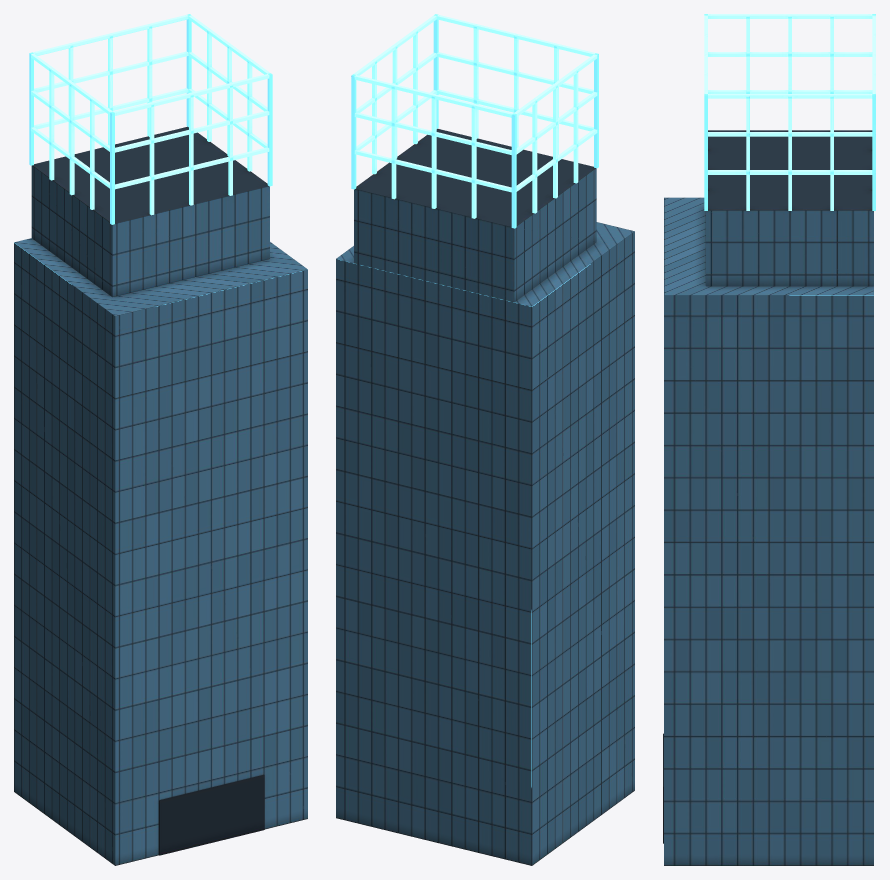
The model's file is torre_led.glb.
The picture shows the model from 3 angles, left to right: view 1: azimuth 30°, elevation 25°; view 2: azimuth 150°, elevation 25°; view 3: azimuth 270°, elevation 25°; orthographic projection. The views are drawn at different scales.
Visible parts, largest first — view 1: torre_led; view 2: torre_led; view 3: torre_led.
Boxes of the visible parts, x1,y1,x2,y2 form: torre_led: (14,14,307,865); torre_led: (336,14,634,865); torre_led: (663,14,875,865).
Size of the model in its own units: 22 by 80.15 by 20.27.
Materials: 1 (1 with a texture image).
